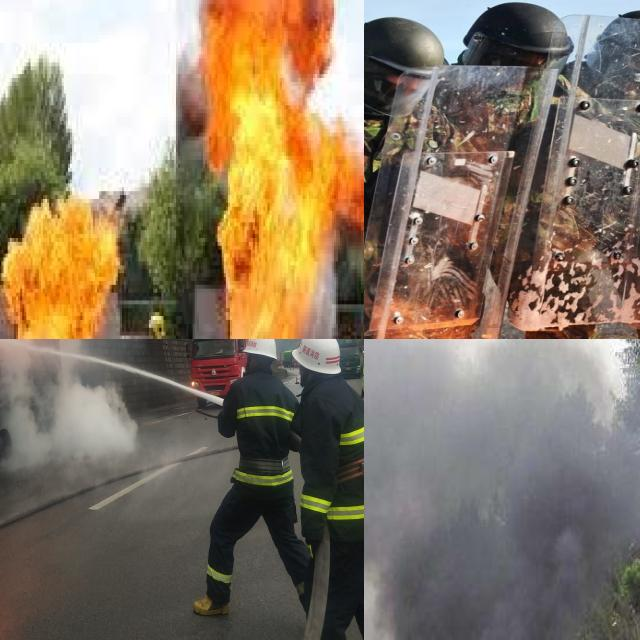fire: (197, 0, 364, 339), (0, 191, 122, 339)
smoke: (364, 339, 640, 640), (0, 339, 139, 478)
